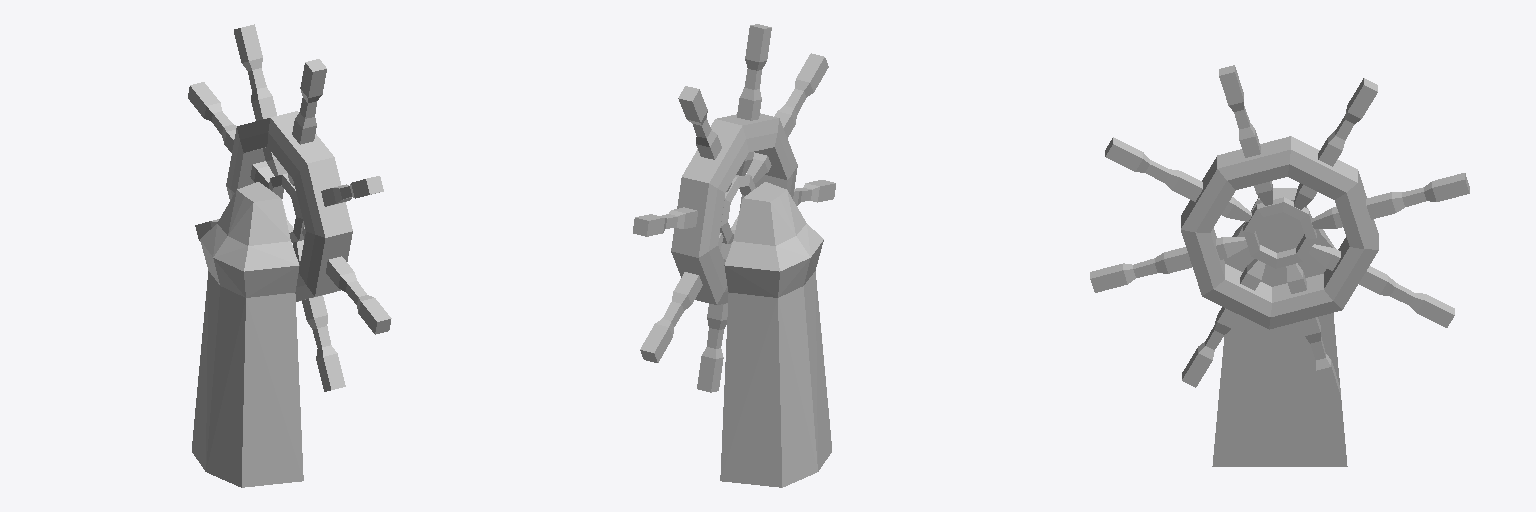
Rendered from wheel.obj.
3 views of the same model, side by side, from view 1: azimuth 30°, elevation 25°; view 2: azimuth 150°, elevation 25°; view 3: azimuth 270°, elevation 25° (orthographic).
Size of the model in its own units: 0.3289 by 1.28 by 1.08.